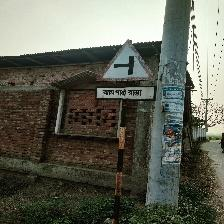Side-road-left: (96, 39, 155, 103)
